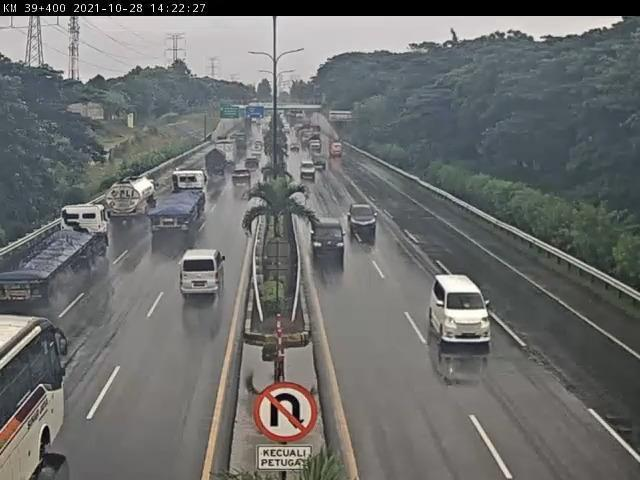bus: (1, 312, 65, 480)
car: (430, 277, 493, 346), (179, 248, 227, 298), (310, 220, 345, 259), (349, 200, 382, 235)
truck: (1, 203, 109, 311), (151, 171, 212, 232), (103, 175, 161, 224)
